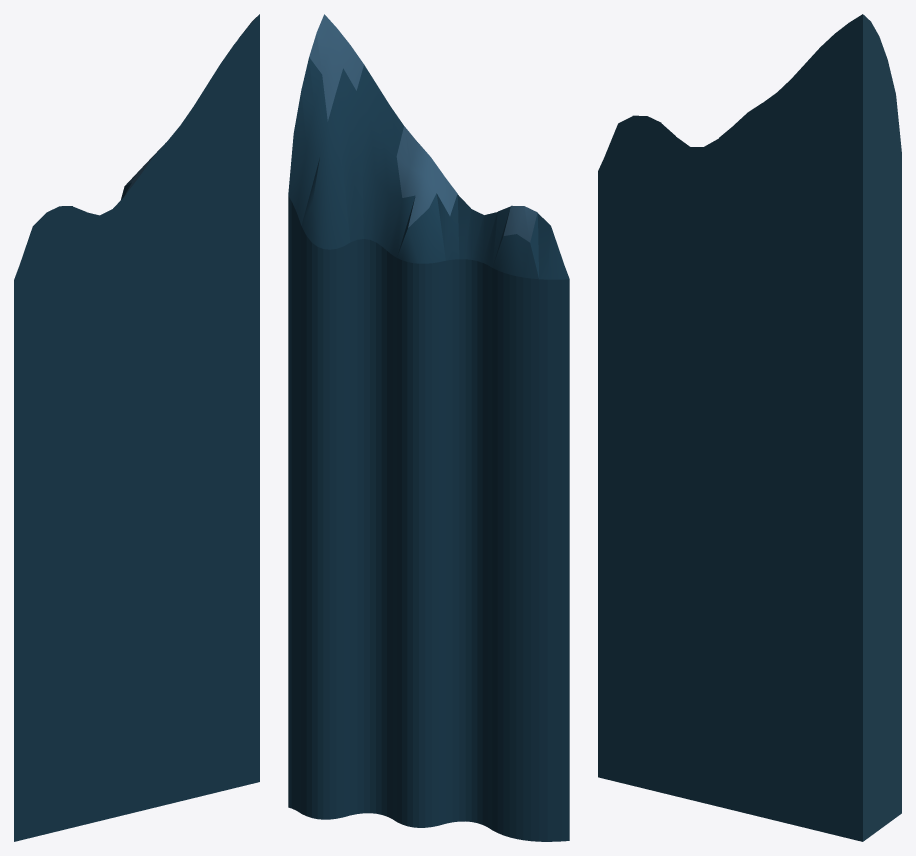
Rendered from fleet_walker_1.glb.
3 renders of one model, left to right at view 1: azimuth 30°, elevation 25°; view 2: azimuth 150°, elevation 25°; view 3: azimuth 330°, elevation 25°, orthographic. The views are drawn at different scales.
Parts seen in each view (by area): view 1: fleet_walker_1_whull; view 2: fleet_walker_1_whull; view 3: fleet_walker_1_whull.
Boxes of the visible parts, <box> form: fleet_walker_1_whull: <box>14,14,259,841</box>; fleet_walker_1_whull: <box>288,14,569,841</box>; fleet_walker_1_whull: <box>598,14,901,841</box>.
Bounding box in the file's own units: 9.19 × 27.46 × 2.66.
